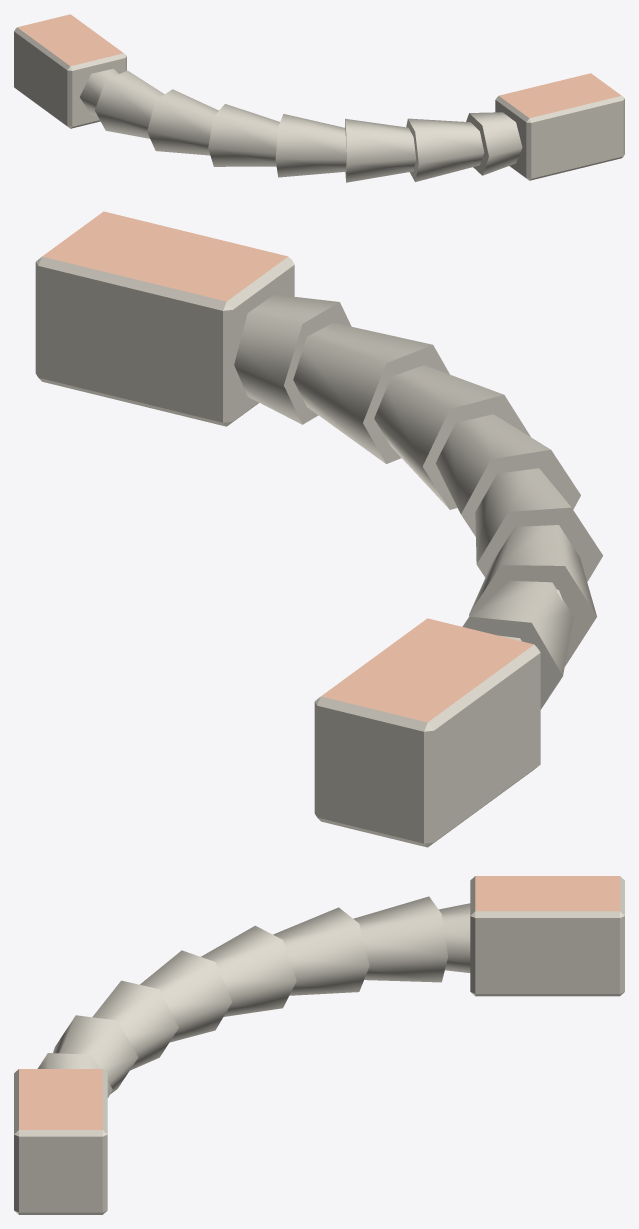
File: R4C_ROD_ARC_LONG_LOD1.fbx
3 renders of one model, top to bottom at view 1: azimuth 30°, elevation 25°; view 2: azimuth 150°, elevation 25°; view 3: azimuth 270°, elevation 25°, orthographic. The views are drawn at different scales.
Parts seen in each view (by area): view 1: R4C_ROD_ARC_LONG_LOD1; view 2: R4C_ROD_ARC_LONG_LOD1; view 3: R4C_ROD_ARC_LONG_LOD1.
Part boxes in pixels (left/top/right/bottom): R4C_ROD_ARC_LONG_LOD1: left=14, top=14, right=624, bottom=182; R4C_ROD_ARC_LONG_LOD1: left=35, top=211, right=602, bottom=847; R4C_ROD_ARC_LONG_LOD1: left=14, top=876, right=624, bottom=1214.
Bounding box in the file's own units: 1.47 × 0.226 × 1.47.
